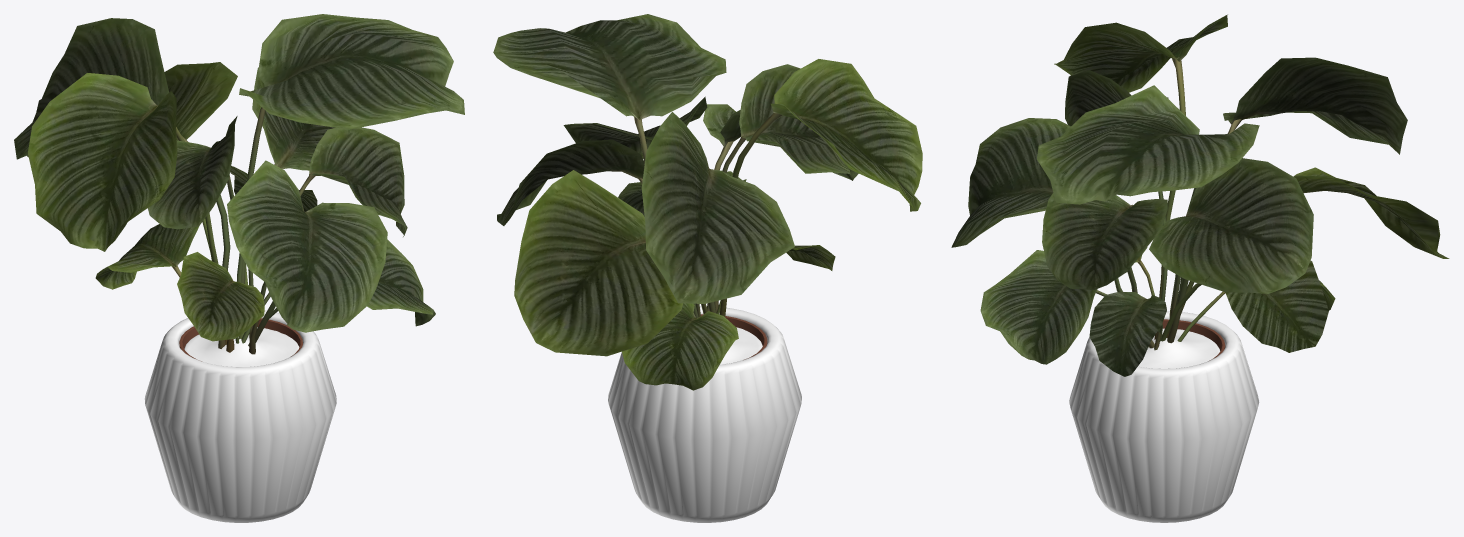
The model's file is calathea-transformed.glb.
3 views of the same model, side by side, from view 1: azimuth 30°, elevation 25°; view 2: azimuth 150°, elevation 25°; view 3: azimuth 270°, elevation 25° (orthographic). The views are drawn at different scales.
Visible parts, largest first — view 1: calathea Leaves, Ceramic pot, Soil, Plastic pot; view 2: calathea Leaves, Ceramic pot, Soil; view 3: calathea Leaves, Ceramic pot, Soil, Plastic pot.
Part boxes in pixels (left/top/right/bottom): calathea Leaves: left=14, top=14, right=464, bottom=354; Ceramic pot: left=144, top=310, right=336, bottom=522; Soil: left=184, top=327, right=299, bottom=366; Plastic pot: left=179, top=318, right=302, bottom=361; calathea Leaves: left=493, top=14, right=922, bottom=390; Ceramic pot: left=608, top=306, right=801, bottom=522; Soil: left=720, top=327, right=762, bottom=364; calathea Leaves: left=951, top=14, right=1449, bottom=376; Ceramic pot: left=1069, top=311, right=1259, bottom=522; Soil: left=1138, top=328, right=1220, bottom=368; Plastic pot: left=1162, top=319, right=1225, bottom=360.
Size of the model in its own units: 0.5257 by 0.5425 by 0.5651.
Materials: 4 (1 with a texture image).
